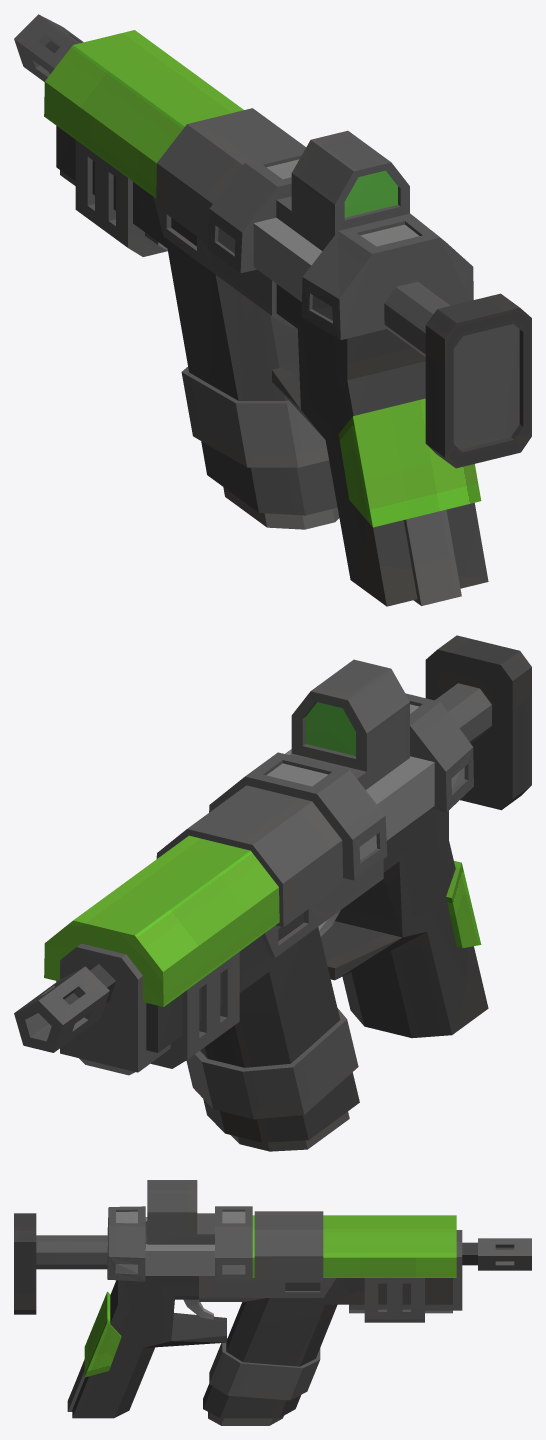
The model's file is rifle_1.glb.
3 views of the same model, one above another, from view 1: azimuth 30°, elevation 25°; view 2: azimuth 150°, elevation 25°; view 3: azimuth 270°, elevation 25° (orthographic). The views are drawn at different scales.
Visible parts, largest first — view 1: fusil_1_texture_0; view 2: fusil_1_texture_0; view 3: fusil_1_texture_0.
Boxes of the visible parts, x1,y1,x2,y2 form: fusil_1_texture_0: (14,14,531,606); fusil_1_texture_0: (14,635,531,1151); fusil_1_texture_0: (14,1180,531,1425).
Bounding box in the file's own units: 0.1203 × 0.3116 × 0.6391.
1 material, 1 textured.
